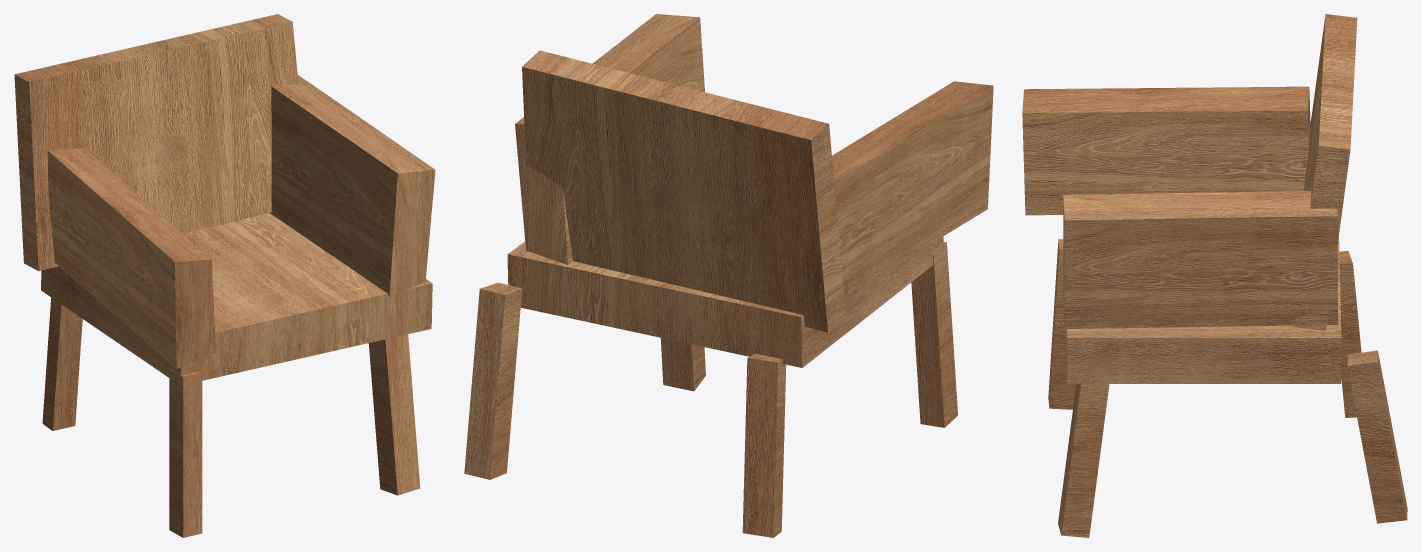
Rendered from 2858_ours.glb.
3 renders of one model, left to right at view 1: azimuth 30°, elevation 25°; view 2: azimuth 150°, elevation 25°; view 3: azimuth 270°, elevation 25°, orthographic. The views are drawn at different scales.
Visible parts, largest first — view 1: ParentEmpty; view 2: ParentEmpty; view 3: ParentEmpty.
Boxes of the visible parts, left/top/right/bottom form: ParentEmpty: left=14, top=14, right=435, bottom=537; ParentEmpty: left=464, top=14, right=993, bottom=537; ParentEmpty: left=1022, top=14, right=1407, bottom=537.
Size of the model in its own units: 0.7936 by 1 by 0.8902.
1 material, 1 textured.
